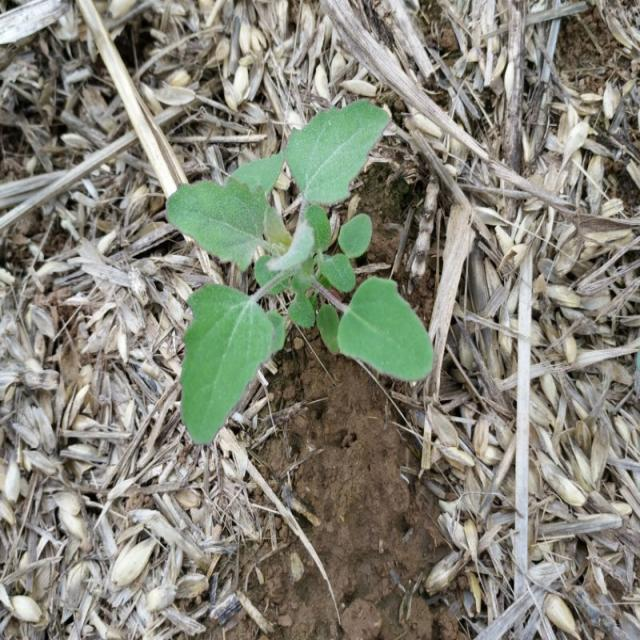goosefoots: (127, 101, 446, 417)
